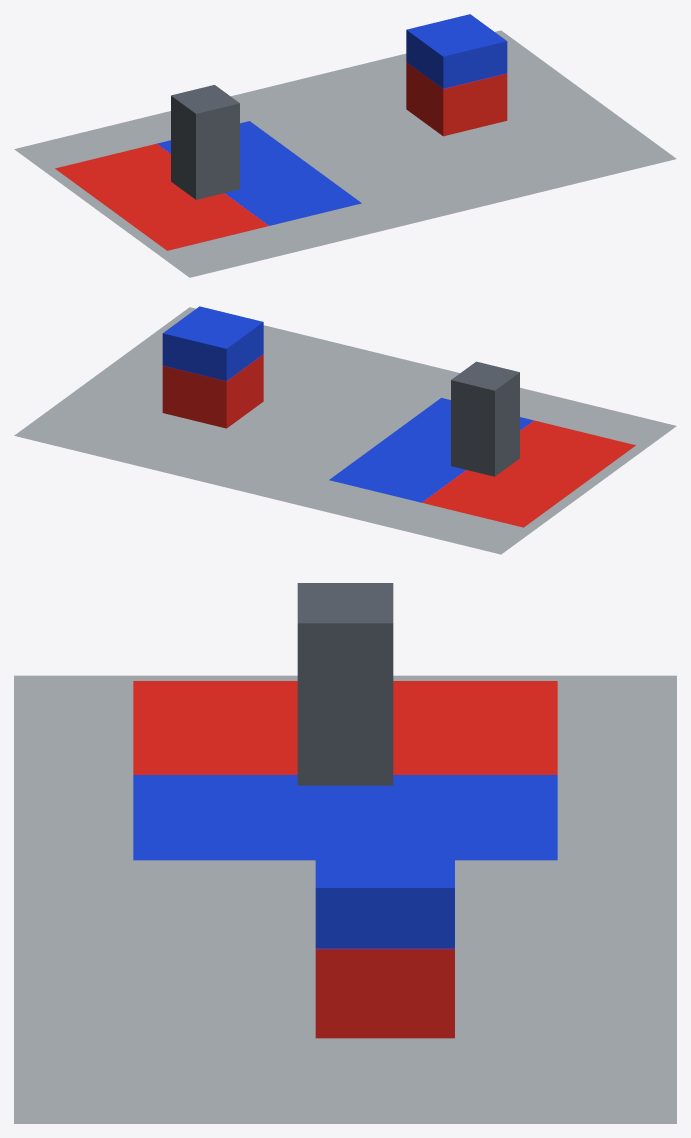
The model's file is lit.glb.
The picture shows the model from 3 angles, top to bottom: view 1: azimuth 30°, elevation 25°; view 2: azimuth 150°, elevation 25°; view 3: azimuth 270°, elevation 25°; orthographic projection. The views are drawn at different scales.
Visible parts, largest first — view 1: PROTOTYPE_Floor, PROTOTYPE_SelectedReceiver, PROTOTYPE_SelectedCaster, PROTOTYPE_Occluder; view 2: PROTOTYPE_Floor, PROTOTYPE_SelectedReceiver, PROTOTYPE_SelectedCaster, PROTOTYPE_Occluder; view 3: PROTOTYPE_Floor, PROTOTYPE_SelectedReceiver, PROTOTYPE_SelectedCaster, PROTOTYPE_Occluder.
Boxes of the visible parts, x1,y1,x2,y2 form: PROTOTYPE_Floor: [14, 30, 676, 277]; PROTOTYPE_SelectedReceiver: [55, 121, 361, 250]; PROTOTYPE_SelectedCaster: [406, 14, 507, 136]; PROTOTYPE_Occluder: [171, 85, 239, 199]; PROTOTYPE_Floor: [14, 307, 676, 554]; PROTOTYPE_SelectedReceiver: [329, 398, 635, 527]; PROTOTYPE_SelectedCaster: [162, 306, 263, 428]; PROTOTYPE_Occluder: [451, 361, 519, 476]; PROTOTYPE_Floor: [14, 675, 676, 1123]; PROTOTYPE_SelectedReceiver: [133, 681, 557, 860]; PROTOTYPE_SelectedCaster: [315, 829, 454, 1038]; PROTOTYPE_Occluder: [297, 583, 393, 785].
Size of the model in its own units: 8 by 1.4 by 5.
Materials: 3 (1 with a texture image).
